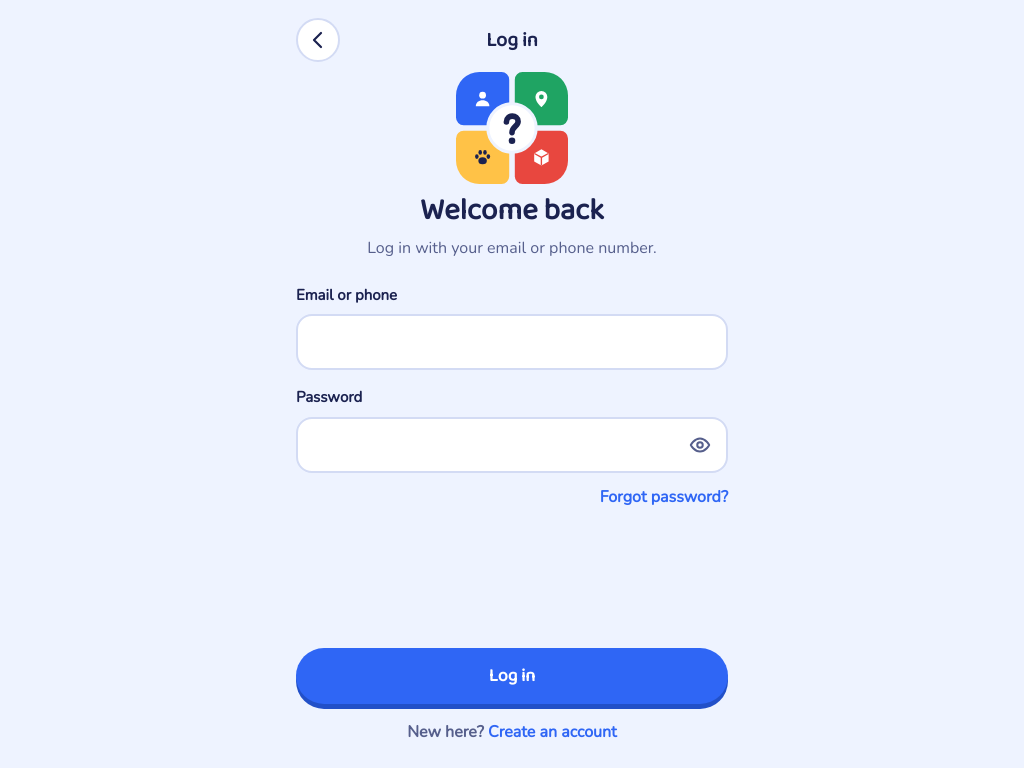
Test: log in and log out › logs in, shows Home, then logs out from Profile
Type "maya@example.com" into the field labelled "Email or phone" at (512, 342), box [296, 314, 728, 370]
Type "Test1234" into the password field labelled "Password" at (512, 444), box [296, 416, 728, 472]
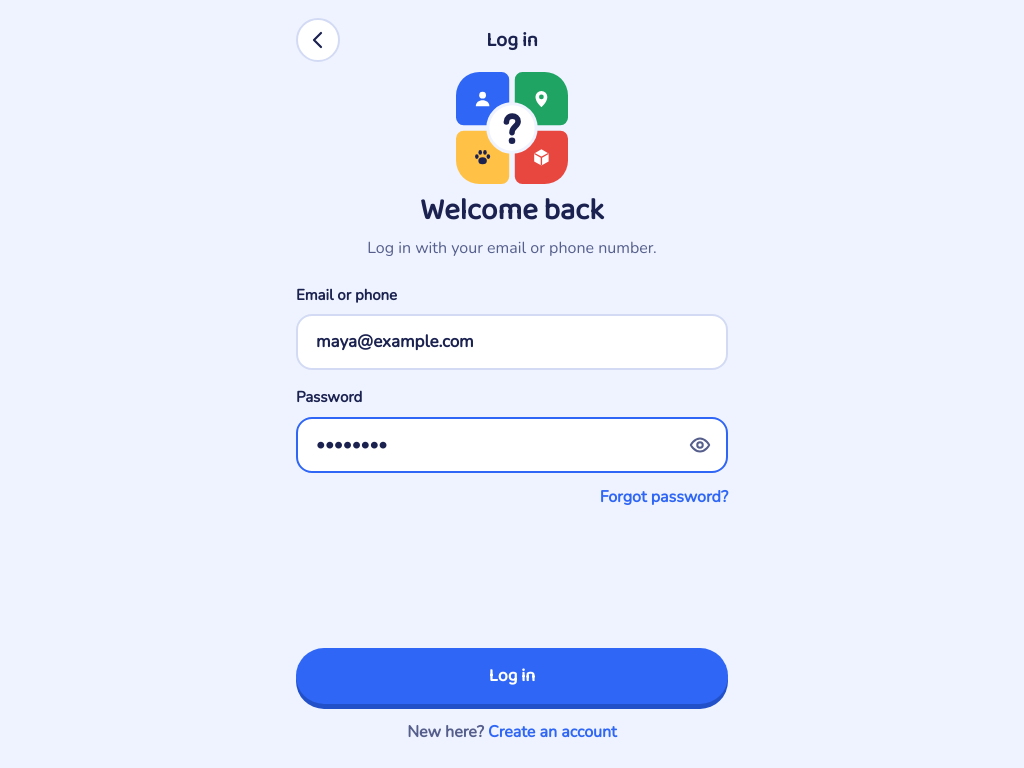
Click the button "Log in" at (512, 676), box [296, 648, 728, 704]
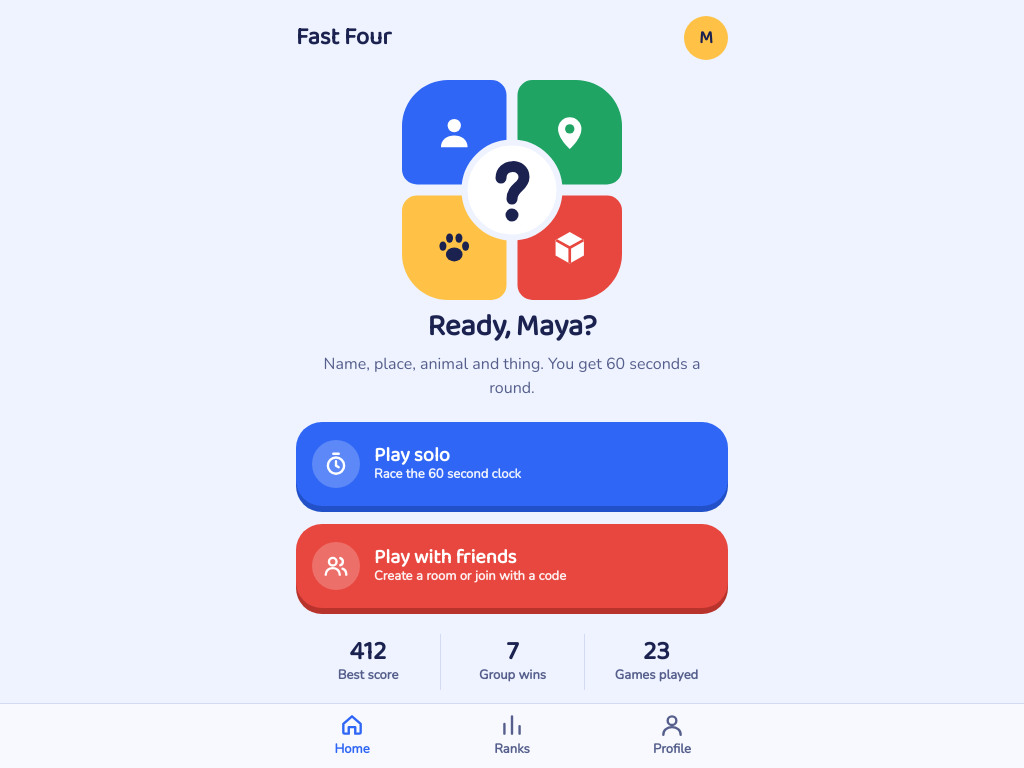
Result: the heading "Ready, Maya?" is shown at [428, 303, 596, 351]
Click the link "Profile" at (672, 735), box [653, 712, 691, 758]
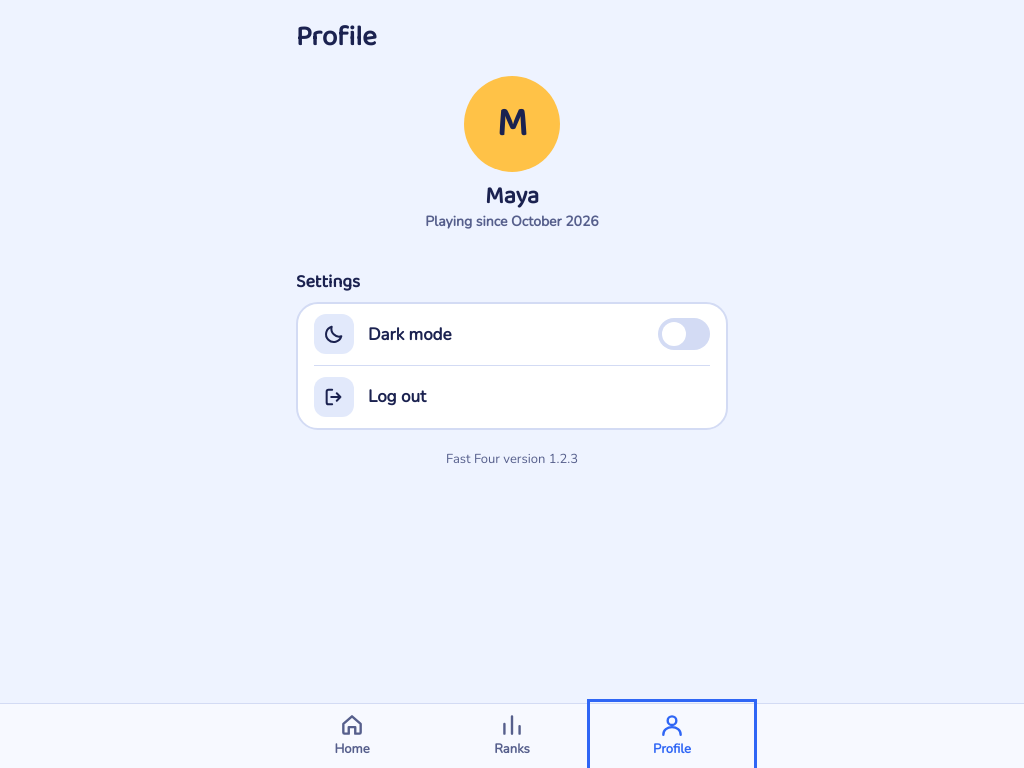
Click the button "Log out" at (334, 397), box [314, 366, 710, 428]
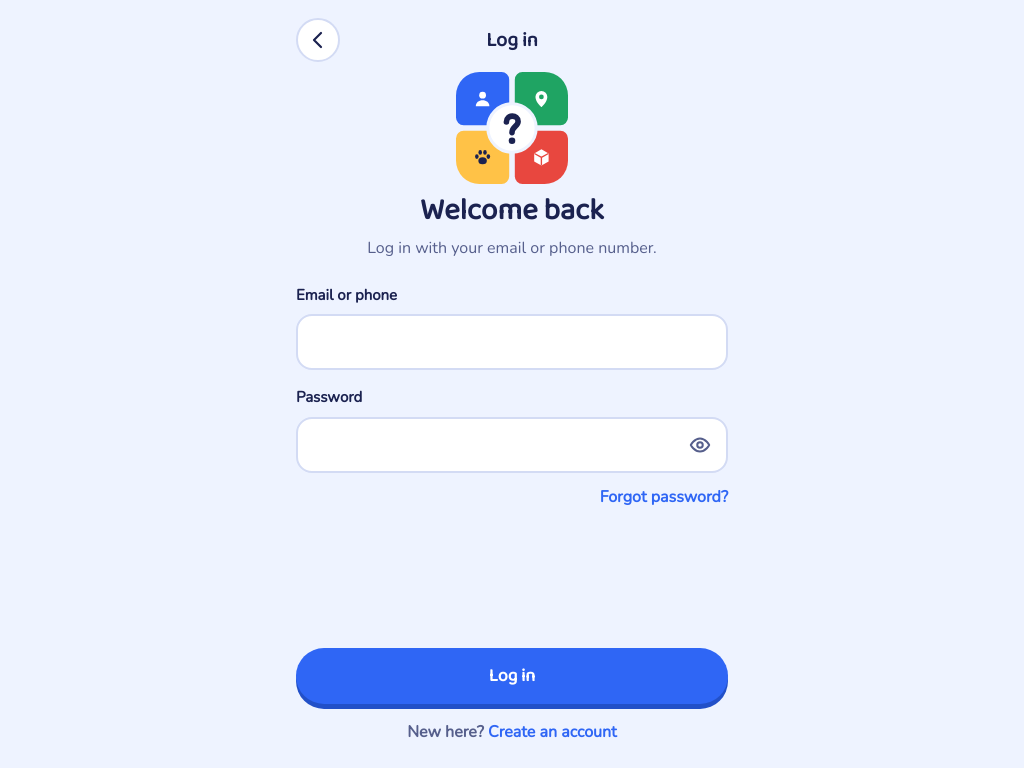
Result: the heading "Welcome back" is shown at [420, 187, 604, 235]
Type "maya@example.com" into the field labelled "Email or phone" at (512, 342), box [296, 314, 728, 370]
Type "Test1234" into the password field labelled "Password" at (512, 444), box [296, 416, 728, 472]
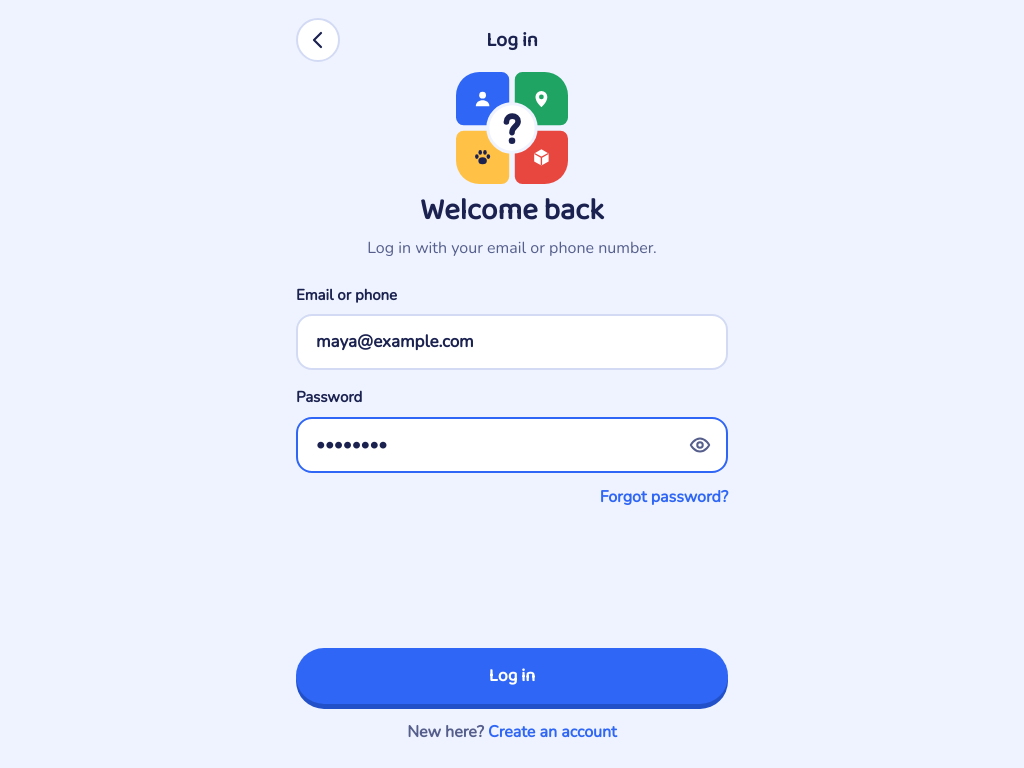
Click the button "Log in" at (512, 676), box [296, 648, 728, 704]
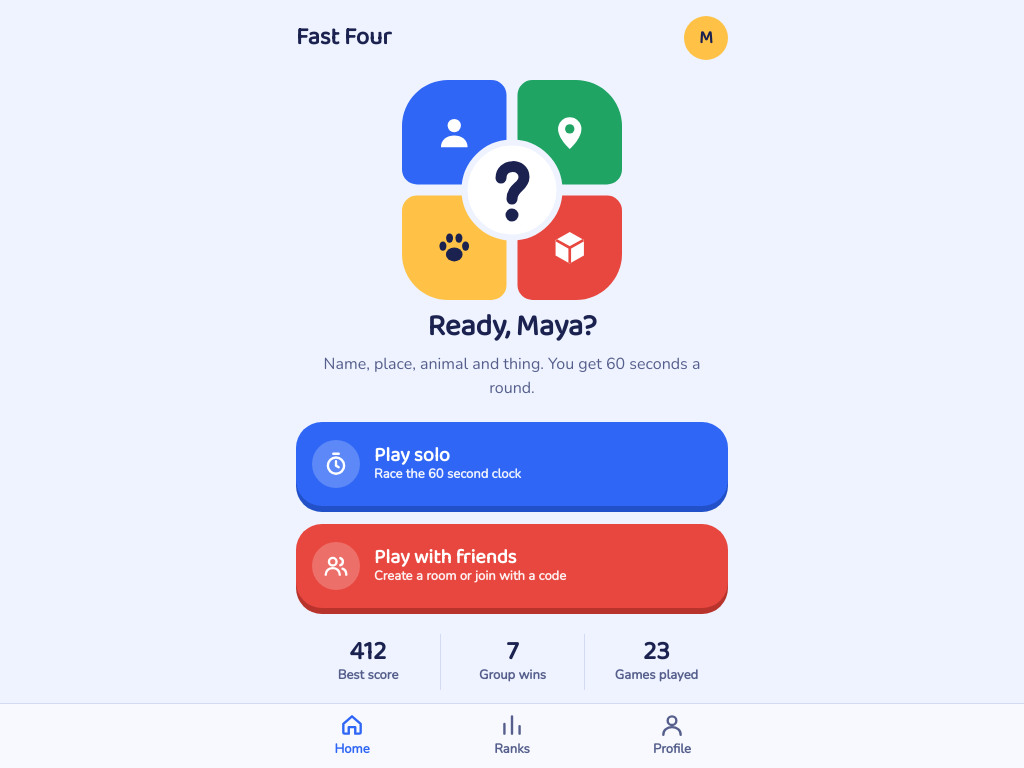
Result: the heading "Ready, Maya?" is shown at [428, 303, 596, 351]
